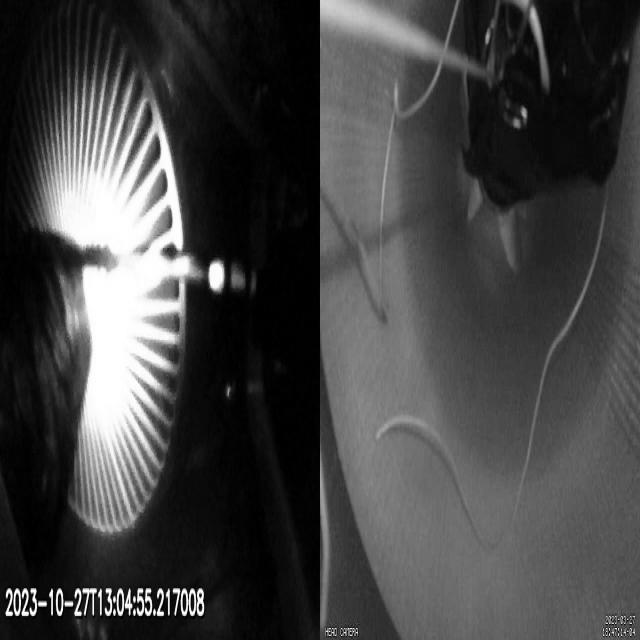white-dots: (208, 258, 270, 296)
